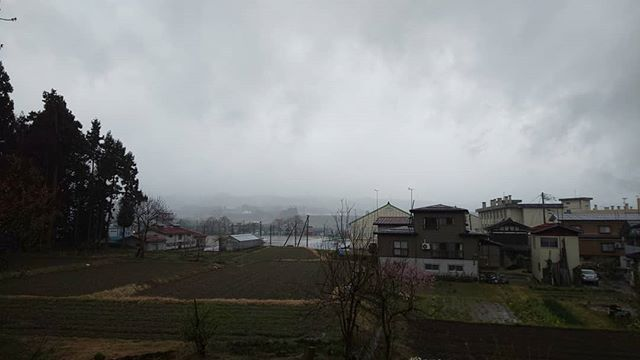building: (368, 200, 483, 286), (479, 193, 597, 229), (521, 225, 587, 288), (124, 223, 203, 256)
sky: (61, 1, 637, 202)
tree: (319, 210, 379, 360), (356, 262, 432, 360)
vegetation: (1, 85, 133, 235)
